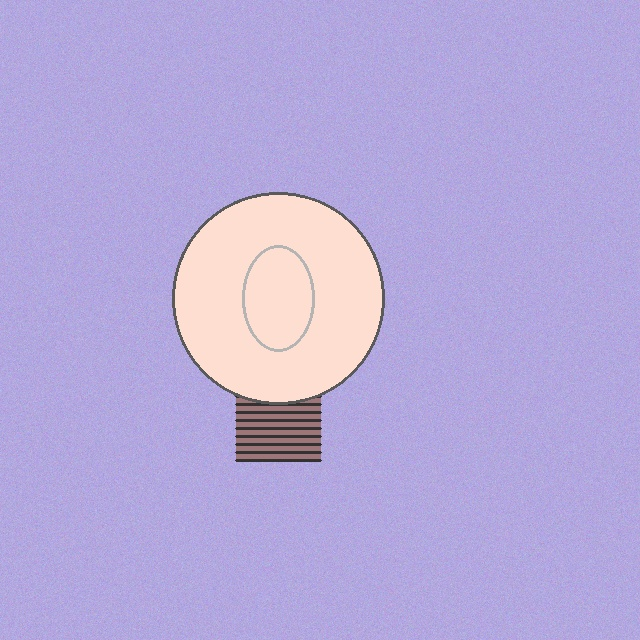bulb: (168, 188, 388, 466)
